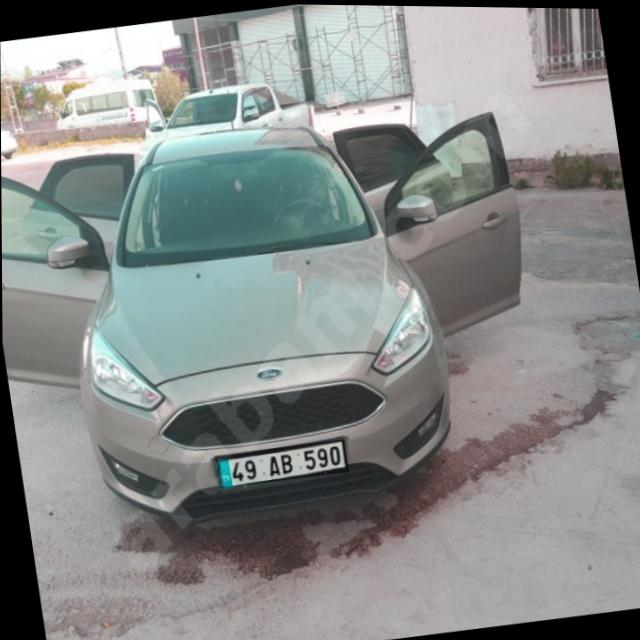license_plate: (214, 436, 348, 489)
